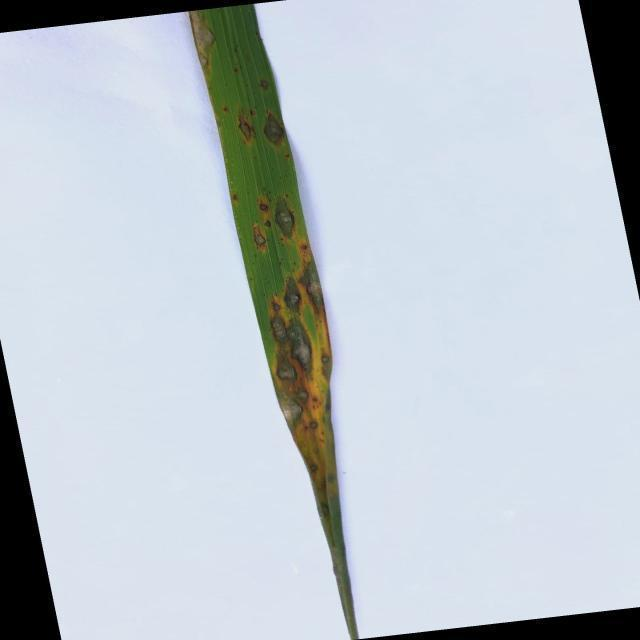Leaf_Blast: (188, 11, 217, 76), (297, 256, 326, 316), (287, 315, 316, 375), (274, 386, 305, 430), (274, 195, 296, 242), (274, 344, 300, 382), (262, 111, 286, 149), (281, 275, 303, 315), (269, 303, 289, 347), (236, 112, 257, 146), (252, 225, 268, 252), (296, 386, 310, 404), (306, 462, 320, 476), (259, 77, 271, 92), (257, 200, 269, 214), (319, 354, 331, 365), (307, 420, 320, 429), (299, 242, 308, 254), (231, 193, 239, 204), (264, 219, 272, 229)
